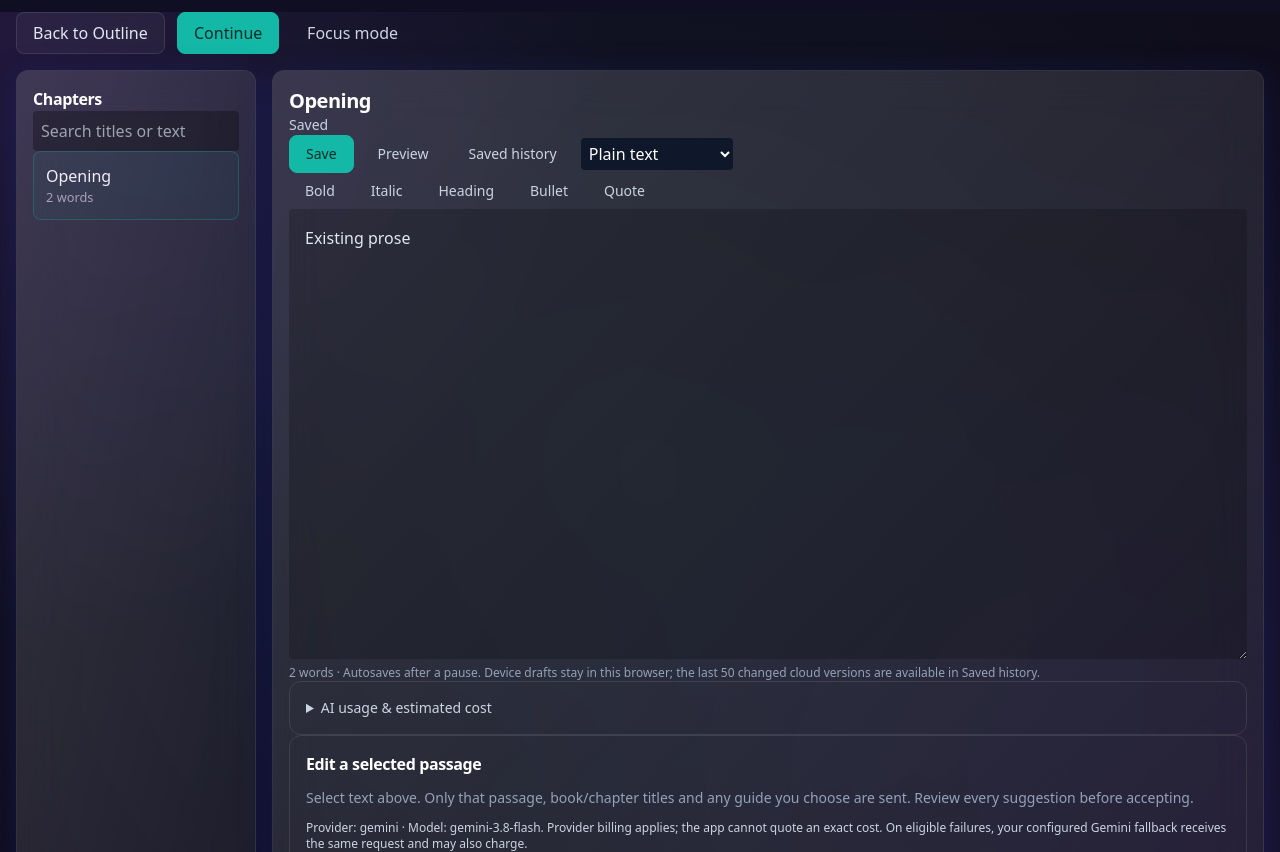
Test: applies headings, bullets and quotes to a line instead of injecting extra lines or placeholder words
Click the button "Heading".
click(466, 191)  # box [422,173,510,209]
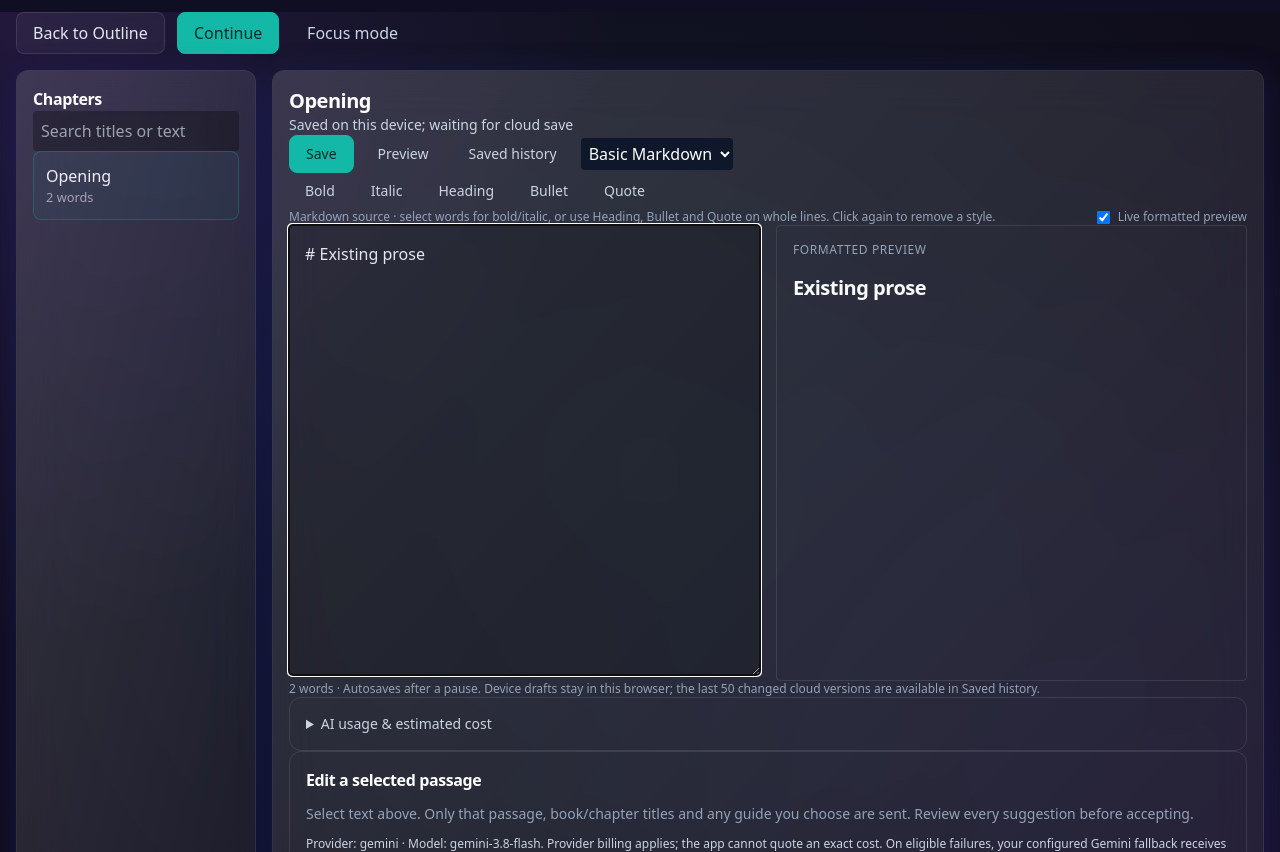
Result: the text box named "Chapter content" holds "# Existing prose" at [289,225,760,675]
Click the button "Bullet".
click(549, 191)  # box [514,173,584,209]
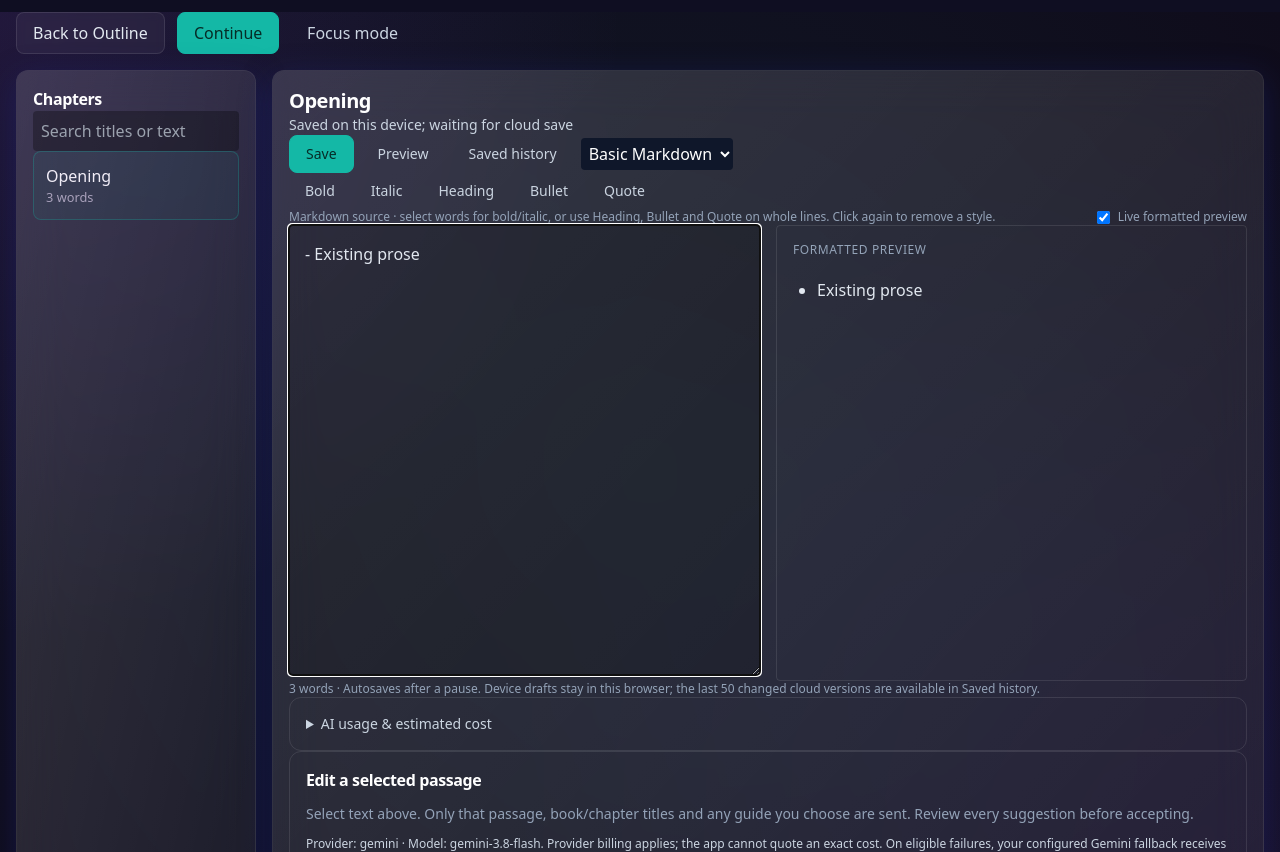
Result: the text box named "Chapter content" holds "- Existing prose" at [289,225,760,675]
Click the button "Quote".
click(624, 191)  # box [588,173,661,209]
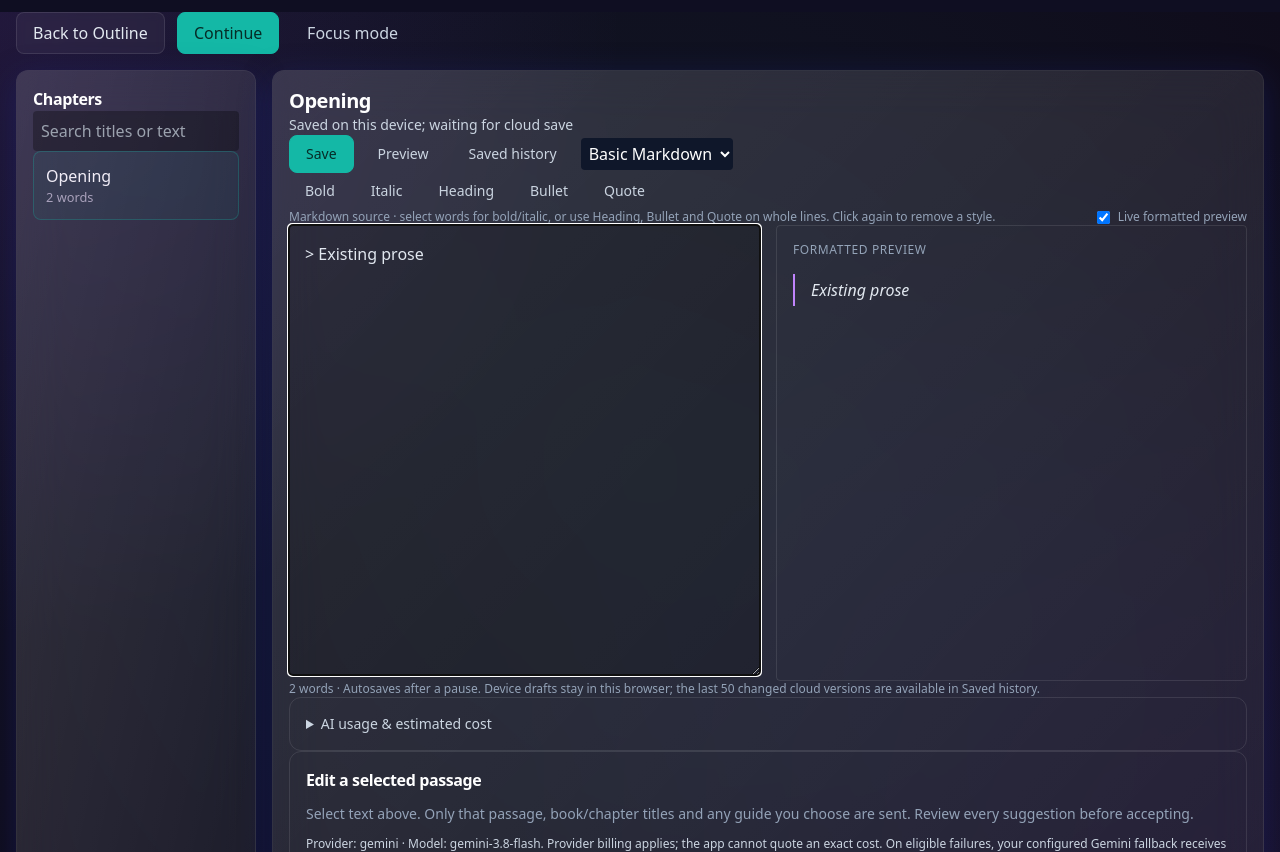
Result: the text box named "Chapter content" holds "> Existing prose" at [289,225,760,675]
Click the button "Quote".
click(624, 191)  # box [588,173,661,209]
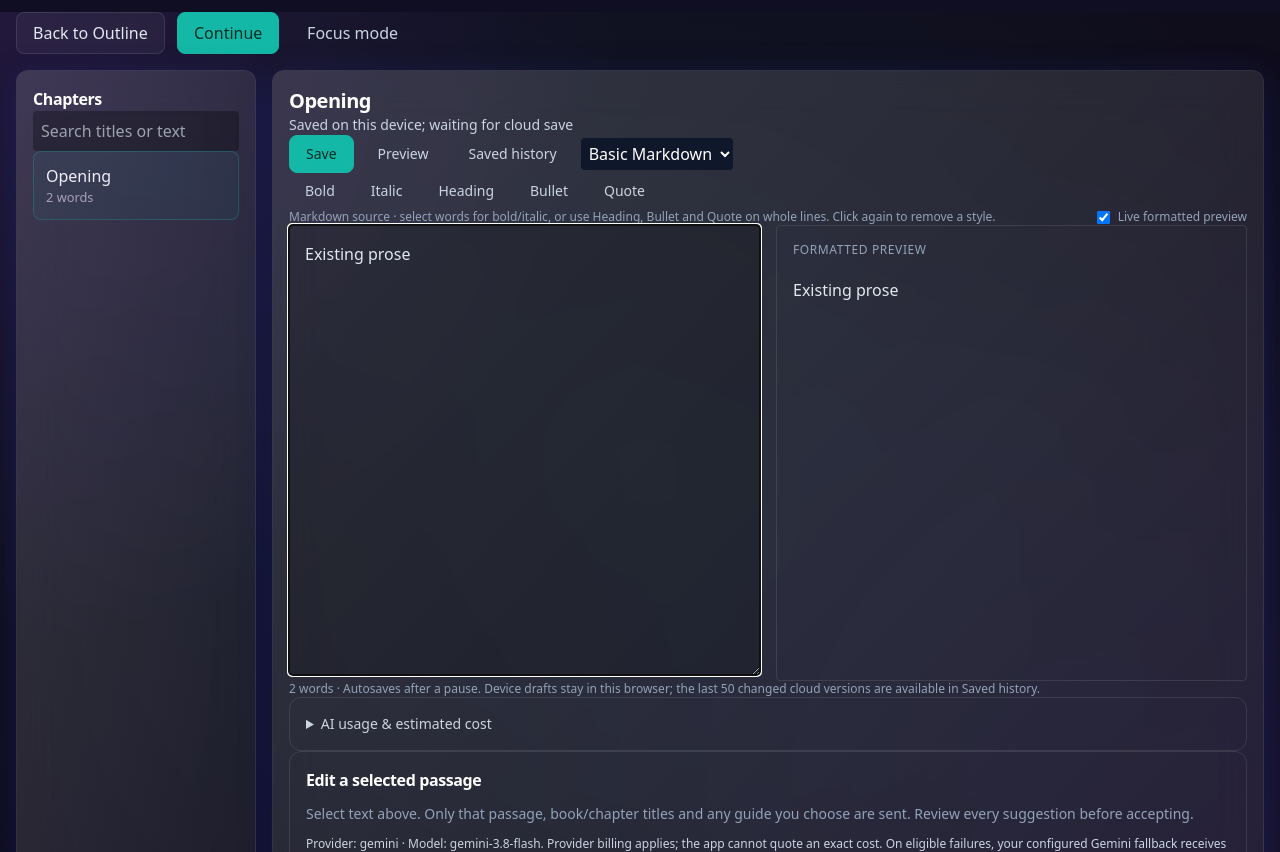
Result: the text box named "Chapter content" holds "Existing prose" at [289,225,760,675]
